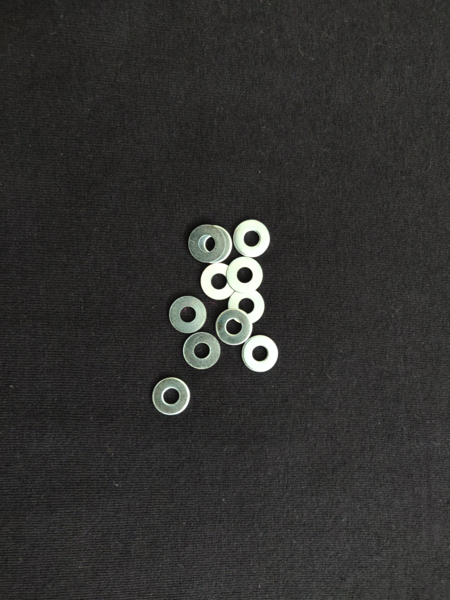circles: (183, 329, 222, 373), (213, 305, 252, 349), (228, 286, 267, 330), (187, 223, 226, 266), (194, 223, 233, 266), (232, 216, 271, 259), (225, 253, 264, 296), (199, 260, 238, 303), (168, 293, 207, 336), (152, 375, 191, 418), (242, 333, 281, 376)
